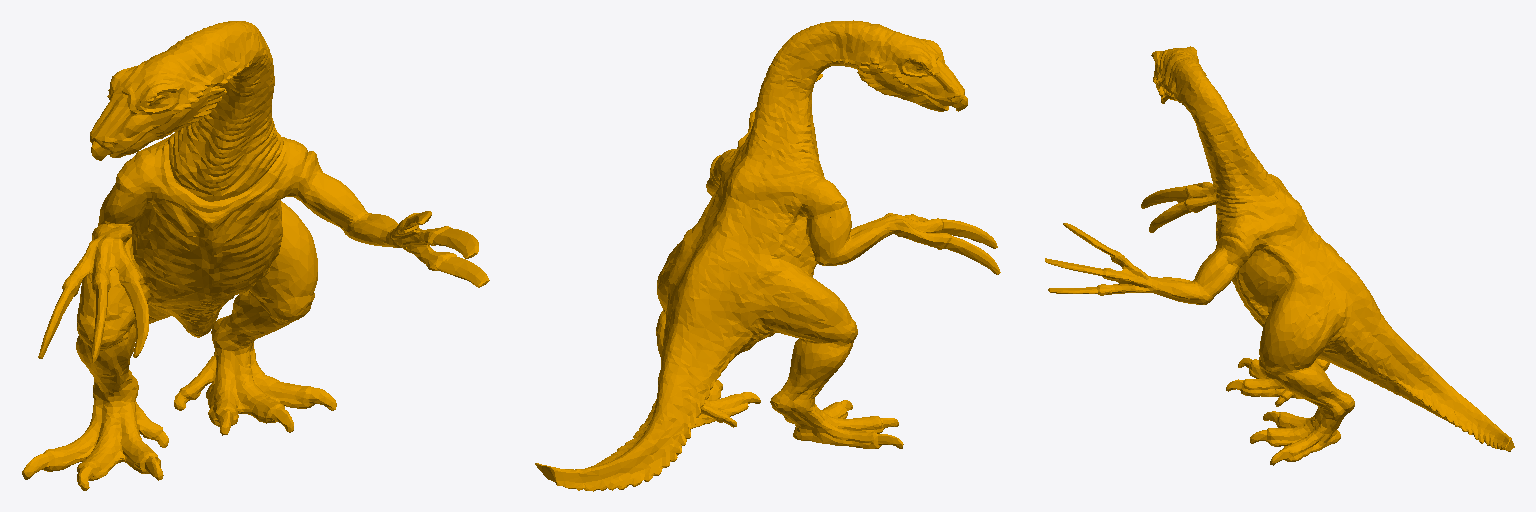
URDF robot description (2mr8zfyr):
<?xml version='1.0'?>

<robot name="2mr8zfyr">
    <static>false</static>
    <link name="link">
        <inertial>
            <mass value="0.12320211839400462"/>
            <inertia ixx="0.0001474817925211625" ixy="-1.1605055278555945e-05" ixz="1.690821907985403e-05"
                     iyy="0.00012940499696556914" iyz="5.1665532199769376e-05" izz="8.469240103540384e-05"/>
        </inertial>
        <collision name="collision">
            <geometry>
                <mesh filename="package://miscnet/train/2mr8zfyr/collision_model_vhacd.obj"/>
            </geometry>
        </collision>
        <visual name="visual">
            <geometry>
                <mesh filename="package://miscnet/train/2mr8zfyr/visual_model.obj"/>
            </geometry>
        </visual>
    </link>
</robot>

--- Facts derived from the render (not from the file) ---
3 views of the same robot in one strip: view 1: azimuth 30°, elevation 25°; view 2: azimuth 150°, elevation 25°; view 3: azimuth 270°, elevation 25° (orthographic).
Robot: 2mr8zfyr — 1 links, 0 joints (none); root link link; default pose: every joint at zero.
Links seen in each view (by area): view 1: link; view 2: link; view 3: link.
Boxes of the visible links, x1=… form: link: x1=22, y1=21, x2=489, y2=490; link: x1=535, y1=20, x2=1000, y2=491; link: x1=1045, y1=46, x2=1514, y2=465.
Size in the robot's own frame: 0.1028 by 0.1566 by 0.1244 metres.
1 mesh visuals loaded from 1 distinct referenced files (1 OBJ).
